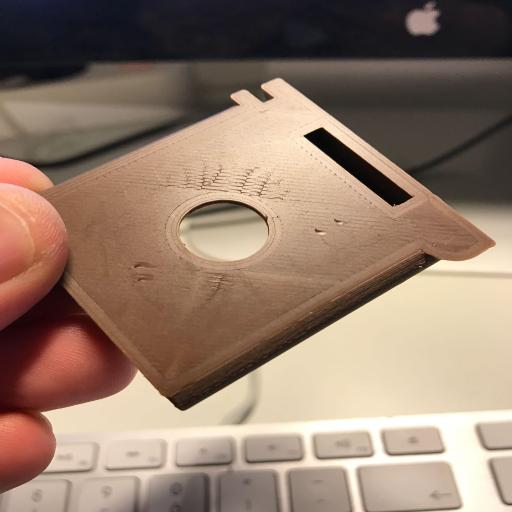cracks: (160, 154, 298, 207), (129, 254, 157, 290), (207, 268, 236, 301), (315, 215, 344, 239)
